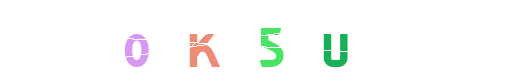5: (215, 0, 295, 80)
K: (161, 0, 241, 80)
O: (99, 0, 179, 80)
U: (264, 0, 344, 80)
